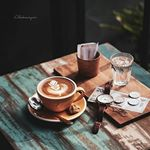cups: (35, 75, 86, 113), (106, 51, 135, 88)
